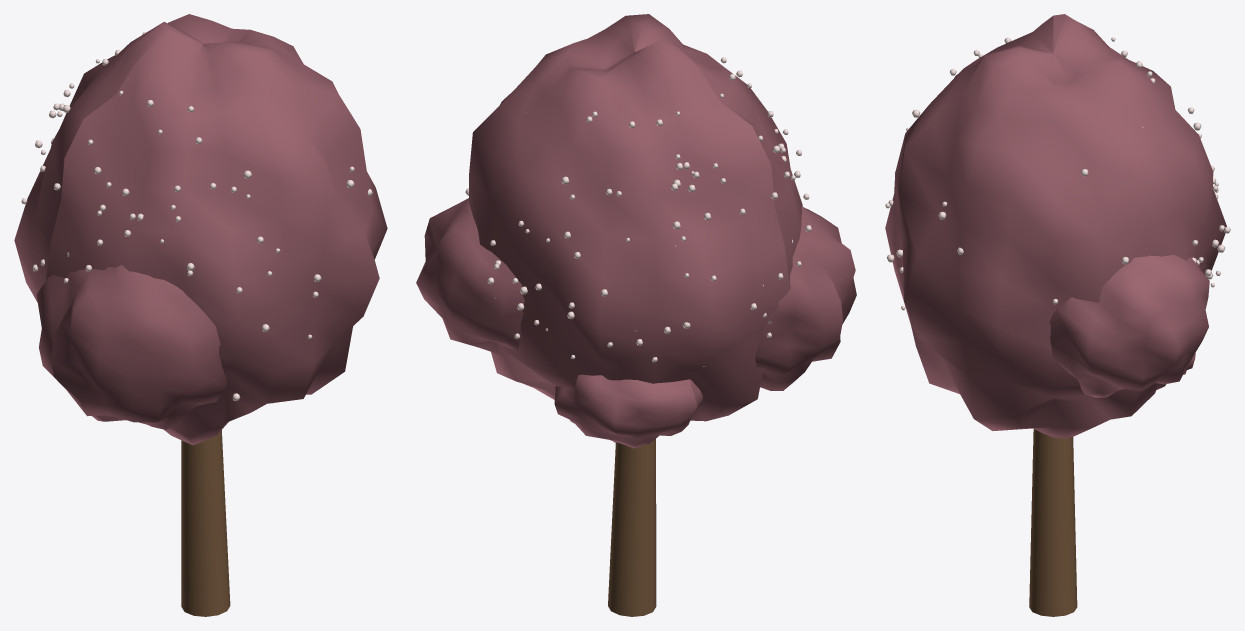
Rendered from crimson-snow-tavasz.glb.
The picture shows the model from 3 angles, left to right: view 1: azimuth 30°, elevation 25°; view 2: azimuth 150°, elevation 25°; view 3: azimuth 270°, elevation 25°; orthographic projection. The views are drawn at different scales.
Parts seen in each view (by area): view 1: korona-1, korona-2, torzs, virag; view 2: korona-1, korona-2, korona-3, korona-5, torzs, virag; view 3: korona-1, korona-3, torzs, virag.
Boxes of the visible parts, bbox=[...] form: korona-1: bbox=[14, 14, 387, 445]; korona-2: bbox=[36, 265, 228, 429]; torzs: bbox=[181, 430, 230, 616]; virag: bbox=[21, 32, 372, 403]; korona-1: bbox=[469, 14, 802, 444]; korona-2: bbox=[755, 206, 856, 390]; korona-3: bbox=[416, 198, 524, 355]; korona-5: bbox=[551, 374, 702, 448]; torzs: bbox=[608, 439, 656, 616]; virag: bbox=[465, 57, 811, 366]; korona-1: bbox=[885, 14, 1226, 438]; korona-3: bbox=[1049, 254, 1209, 397]; torzs: bbox=[1029, 429, 1077, 616]; virag: bbox=[885, 37, 1230, 310].
Size of the model in its own units: 6.14 by 9.85 by 5.35.
